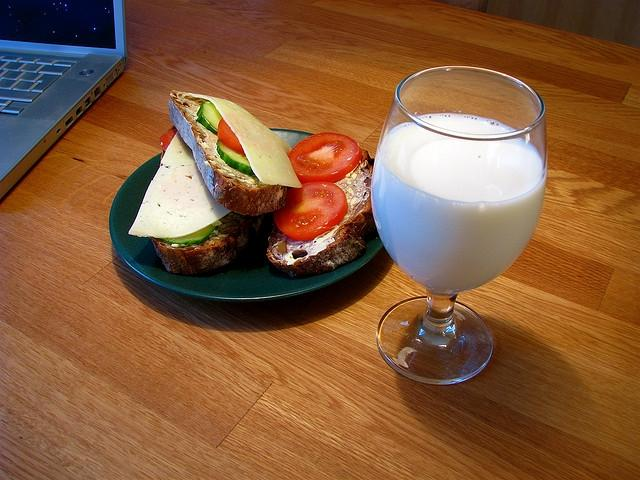cucumber: (216, 140, 256, 176), (155, 224, 218, 244), (196, 101, 222, 134)
tomato: (272, 181, 348, 241), (288, 132, 362, 184), (217, 118, 245, 155), (160, 128, 178, 152)
